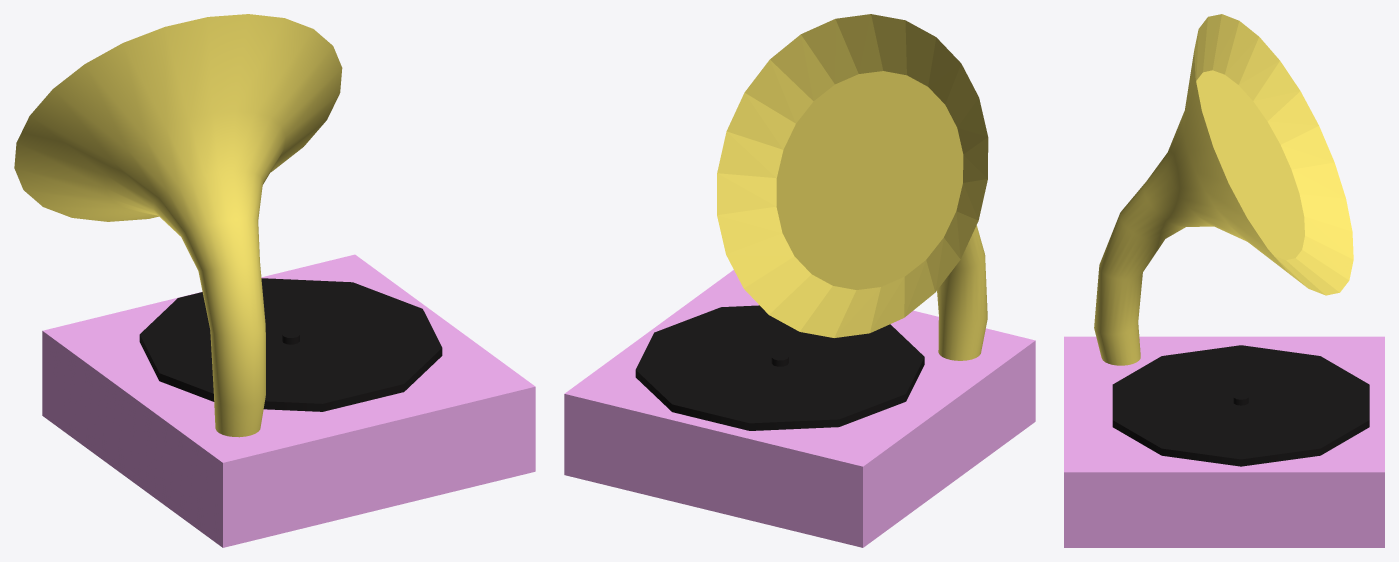
Rendered from Gramola.FBX.
3 renders of one model, left to right at view 1: azimuth 30°, elevation 25°; view 2: azimuth 150°, elevation 25°; view 3: azimuth 270°, elevation 25°, orthographic. The views are drawn at different scales.
Visible parts, largest first — view 1: Gramola; view 2: Gramola; view 3: Gramola.
Part boxes in pixels (left/top/right/bottom): Gramola: left=14, top=14, right=535, bottom=547; Gramola: left=564, top=14, right=1035, bottom=547; Gramola: left=1064, top=14, right=1384, bottom=547.
Size of the model in its own units: 24.31 by 27.72 by 19.69.
Materials: 1 (1 with a texture image).
